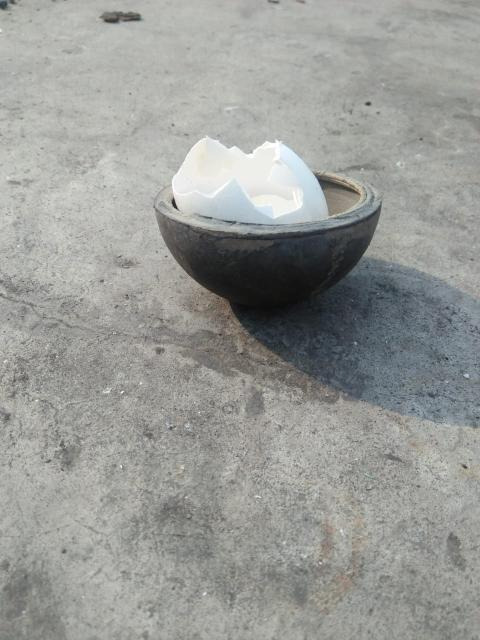Roto: (170, 134, 329, 225)
